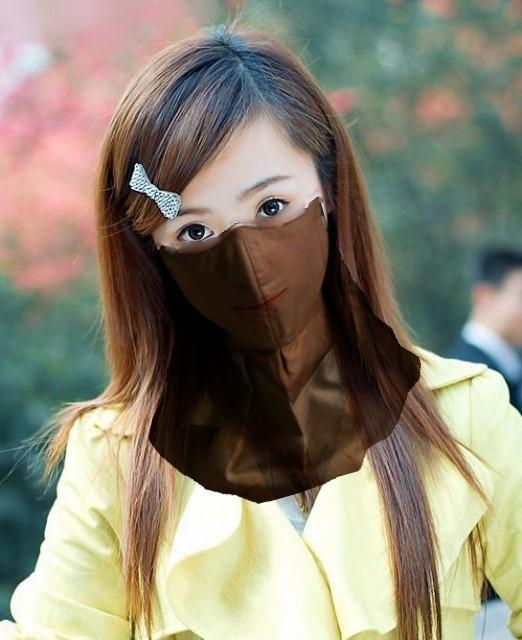OK: (165, 171, 336, 342)
